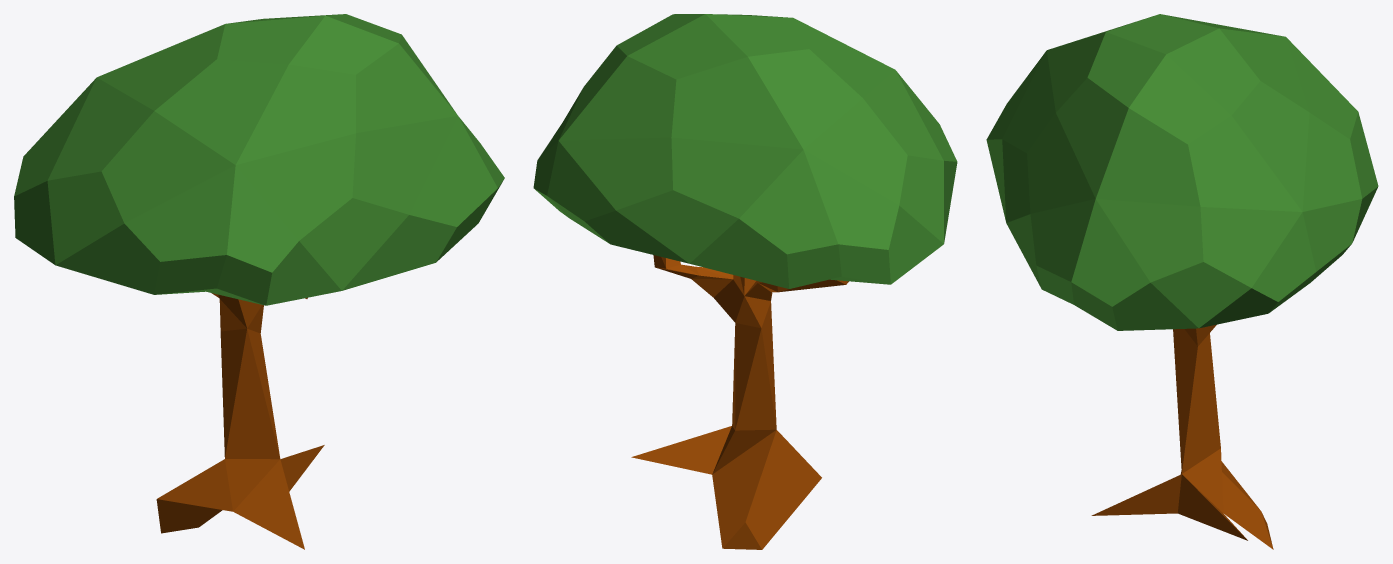
File: TriangularShapeTree.fbx
3 renders of one model, left to right at view 1: azimuth 30°, elevation 25°; view 2: azimuth 150°, elevation 25°; view 3: azimuth 270°, elevation 25°, orthographic. The views are drawn at different scales.
Parts seen in each view (by area): view 1: Cube; view 2: Cube; view 3: Cube.
Boxes of the visible parts, bbox=[...] form: Cube: bbox=[14, 14, 504, 549]; Cube: bbox=[533, 14, 957, 549]; Cube: bbox=[986, 14, 1378, 549].
Size of the model in its own units: 341 by 415 by 278.
